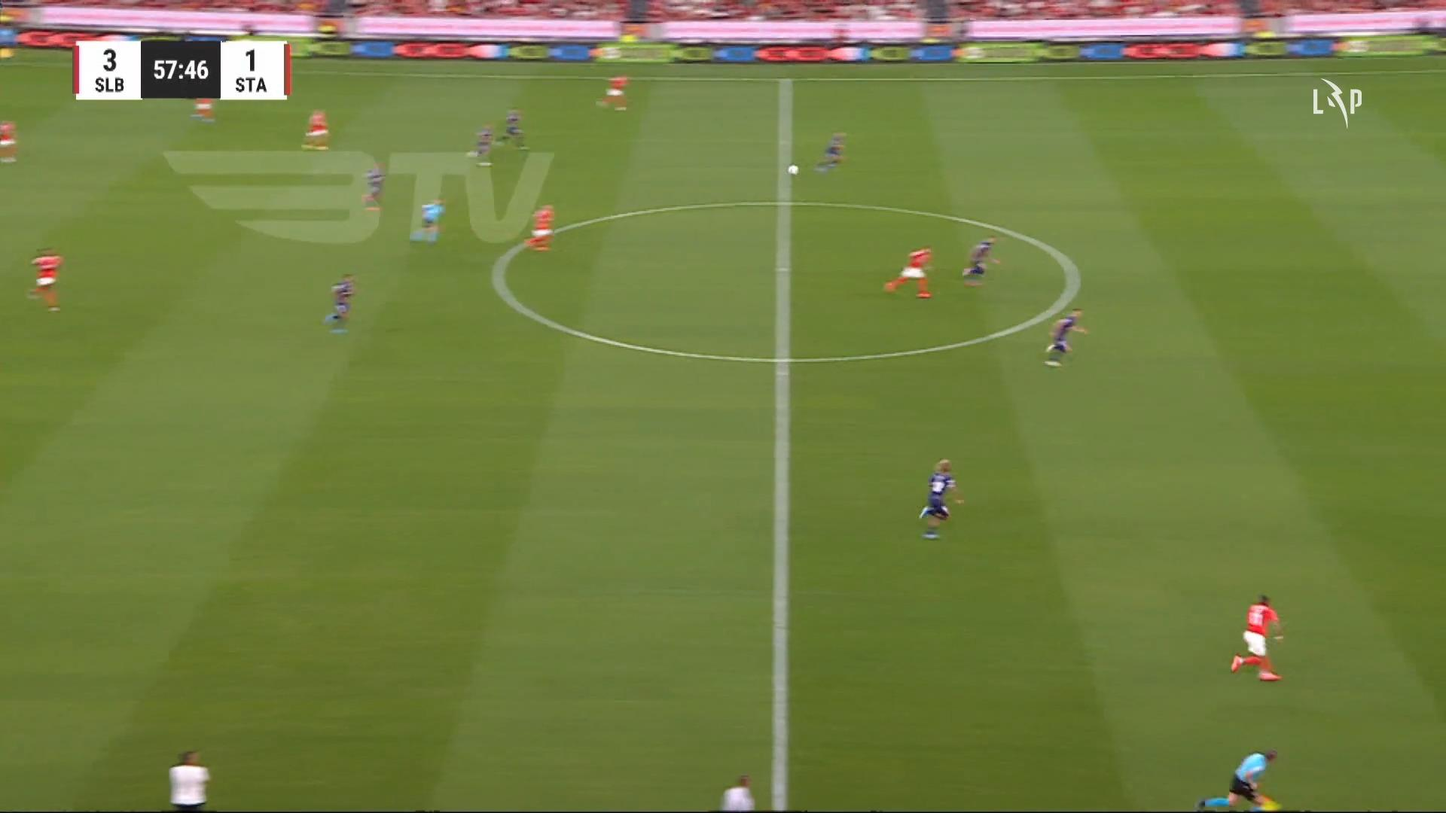ball: (787, 164, 798, 175)
player: (1229, 592, 1284, 681), (917, 458, 965, 539), (1043, 306, 1088, 367), (883, 245, 934, 298), (28, 245, 64, 312), (324, 272, 356, 333), (961, 234, 1000, 284), (524, 202, 555, 251), (815, 129, 847, 173), (595, 72, 629, 111), (721, 773, 755, 811), (300, 108, 330, 150), (467, 123, 496, 166), (361, 160, 385, 211), (502, 106, 528, 150), (0, 120, 18, 163), (190, 96, 215, 121)
referee: (1195, 748, 1280, 811), (412, 197, 445, 244)
